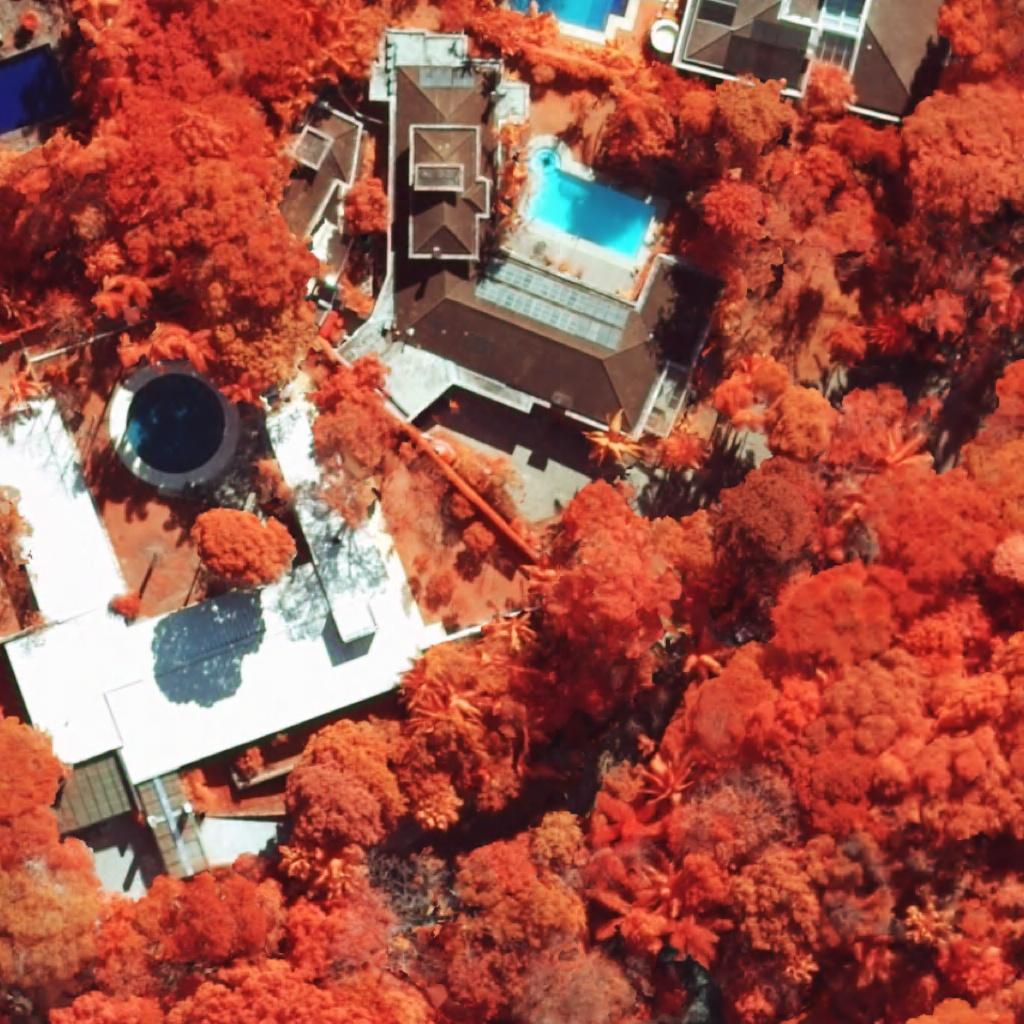pool: (526, 145, 656, 261), (125, 373, 226, 476), (0, 43, 74, 136), (509, 0, 629, 33)
